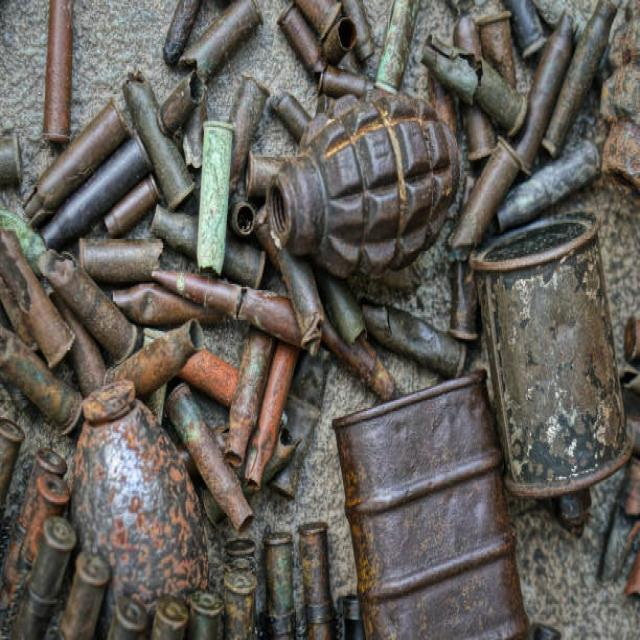grenade: (265, 84, 473, 284)
